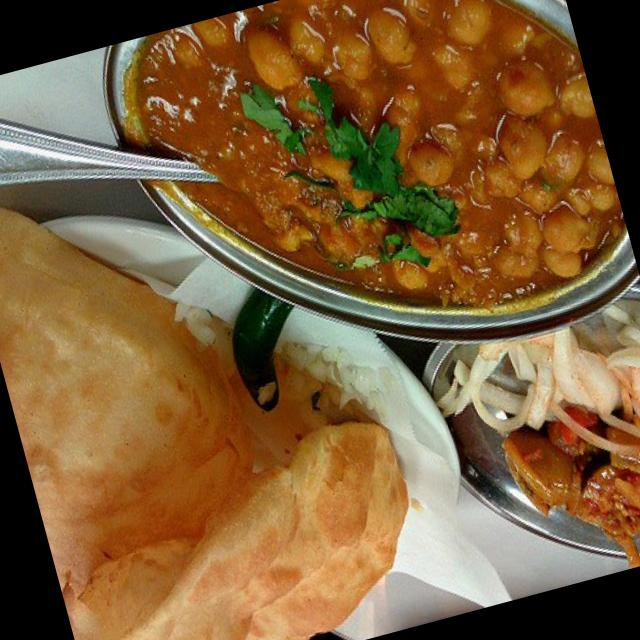Bhatura: (0, 149, 285, 632), (36, 405, 442, 640)
Chole: (125, 0, 640, 399)
